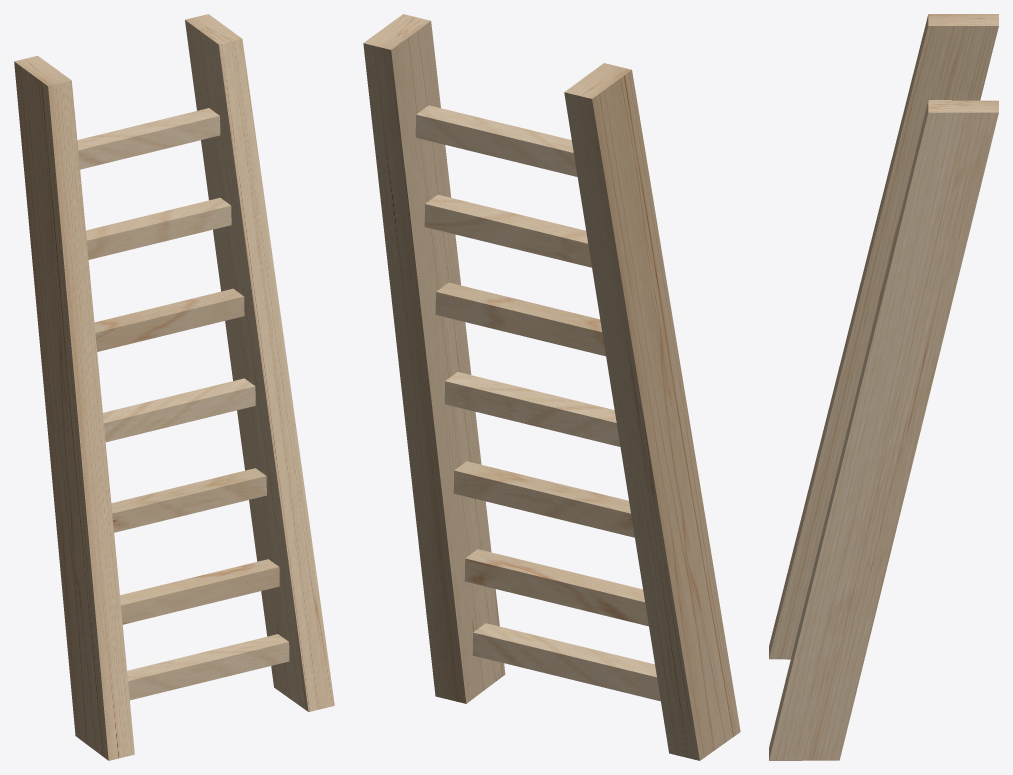
File: Prop_SM_Ladder.fbx
The picture shows the model from 3 angles, left to right: view 1: azimuth 30°, elevation 25°; view 2: azimuth 150°, elevation 25°; view 3: azimuth 270°, elevation 25°; orthographic projection. The views are drawn at different scales.
Visible parts, largest first — view 1: polySurface3; view 2: polySurface3; view 3: polySurface3.
Part boxes in pixels (x1=…): polySurface3: x1=14, y1=14, x2=334, y2=760; polySurface3: x1=363, y1=14, x2=740, y2=760; polySurface3: x1=769, y1=14, x2=998, y2=760.
Bounding box in the file's own units: 0.9621 × 2.5 × 0.8138.
